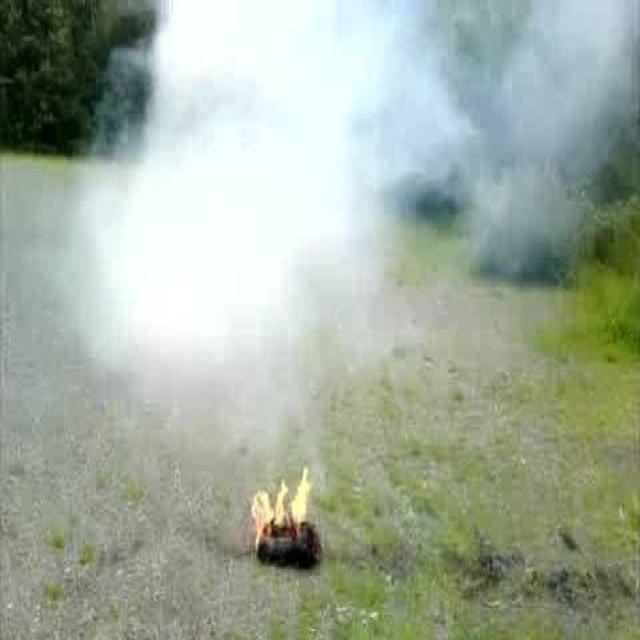Fire: (250, 464, 314, 554)
Smoke: (63, 0, 640, 470)
